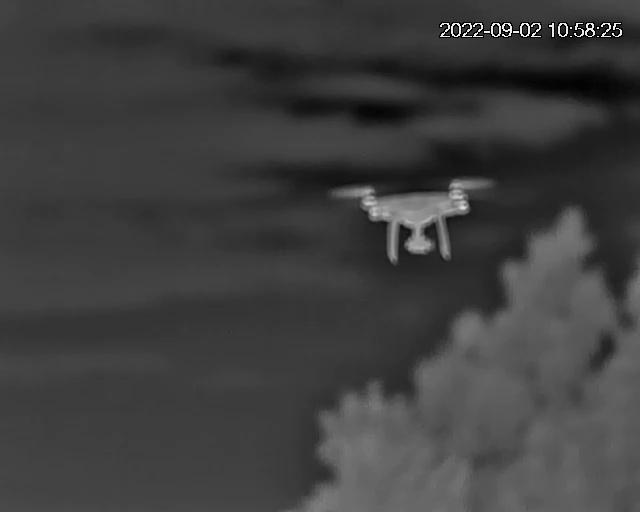DJI-Phantom: (328, 181, 506, 261)
